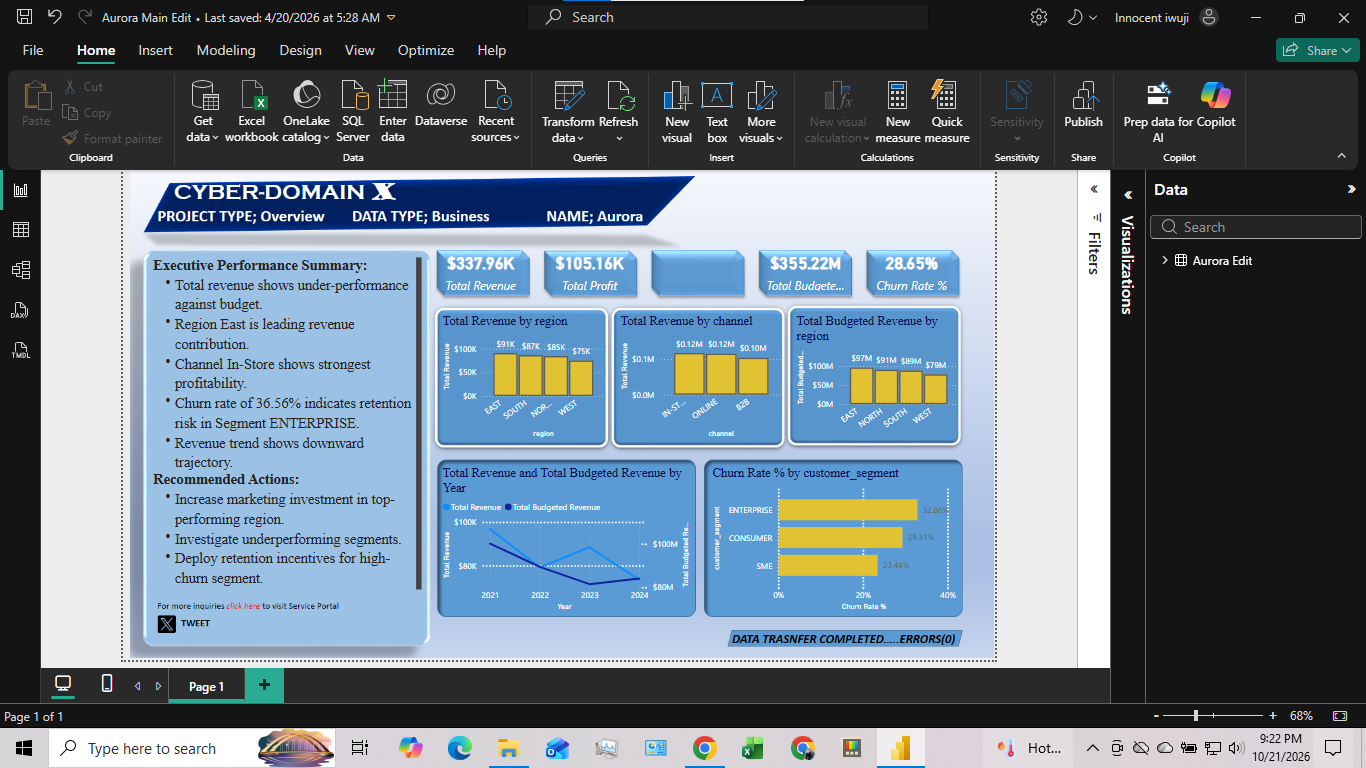

This screenshot's page, from the dashboard's own definition file:
{"tool":"powerbi","page":{"name":"Page 1","canvas":[1280,720],"ordinal":0},"visuals":[{"type":"image","box":[10.3,0,1269.6,720],"z":0},{"type":"card","fields":{"Values":["Aurora Edit.Total Revenue"]},"box":[462.9,113.1,124.9,69.1],"z":1000},{"type":"card","fields":{"Values":["Aurora Edit.Total Profit"]},"box":[623,113.1,124.9,69.1],"z":2000},{"type":"card","fields":{"Values":["Aurora Edit.Total Budgeted Revenue"]},"box":[940.4,113.1,124.9,69.1],"z":3000},{"type":"card","fields":{"Values":["Aurora Edit.Churn Rate"]},"box":[1096.2,113.1,124.9,69.1],"z":4000},{"type":"clusteredColumnChart","fields":{"Category":["Aurora Edit.region"],"Y":["Aurora Edit.Total Revenue"]},"box":[464.3,210.1,246.9,188.1],"z":6000},{"type":"clusteredColumnChart","fields":{"Category":["Aurora Edit.channel"],"Y":["Aurora Edit.Total Revenue"]},"box":[725.9,210.1,246.9,188.1],"z":7000},{"type":"clusteredColumnChart","fields":{"Category":["Aurora Edit.region"],"Y":["Aurora Edit.Total Budgeted Revenue"]},"box":[984.5,210.1,246.9,188.1],"z":8000},{"type":"lineChart","fields":{"Category":["Aurora Edit.transaction_date.Variation.Date Hierarchy.Year","Aurora Edit.transaction_date.Variation.Date Hierarchy.Quarter","Aurora Edit.transaction_date.Variation.Date Hierarchy.Month","Aurora Edit.transaction_date.Variation.Date Hierarchy.Day"],"Y":["Aurora Edit.Total Revenue"],"Y2":["Aurora Edit.Total Budgeted Revenue"]},"box":[464.3,433.5,373.2,218.9],"z":9000},{"type":"barChart","fields":{"Category":["Aurora Edit.customer_segment"],"Y":["Aurora Edit.Churn Rate"]},"box":[861.1,433.5,370.3,218.9],"z":10000},{"type":"textbox","box":[39.7,123.4,404.1,505.5],"z":11000}]}

Visuals, with their boxes on the page's 1280x720 design canvas (x1, y1, x2, y2). These are canvas units, not pixel positions in the 1366x768 screenshot, which may show the page scaled, cropped or inside an application window:
image: detection(10, 0, 1280, 720)
card - Aurora Edit.Total Revenue: detection(463, 113, 588, 182)
card - Aurora Edit.Total Profit: detection(623, 113, 748, 182)
card - Aurora Edit.Total Budgeted Revenue: detection(940, 113, 1065, 182)
card - Aurora Edit.Churn Rate: detection(1096, 113, 1221, 182)
clusteredColumnChart - Aurora Edit.region x Aurora Edit.Total Revenue: detection(464, 210, 711, 398)
clusteredColumnChart - Aurora Edit.channel x Aurora Edit.Total Revenue: detection(726, 210, 973, 398)
clusteredColumnChart - Aurora Edit.region x Aurora Edit.Total Budgeted Revenue: detection(984, 210, 1231, 398)
lineChart - Aurora Edit.transaction_date.Variation.Date Hierarchy.Year x Aurora Edit.transaction_date.Variation.Date Hierarchy.Quarter: detection(464, 434, 838, 652)
barChart - Aurora Edit.customer_segment x Aurora Edit.Churn Rate: detection(861, 434, 1231, 652)
textbox: detection(40, 123, 444, 629)
